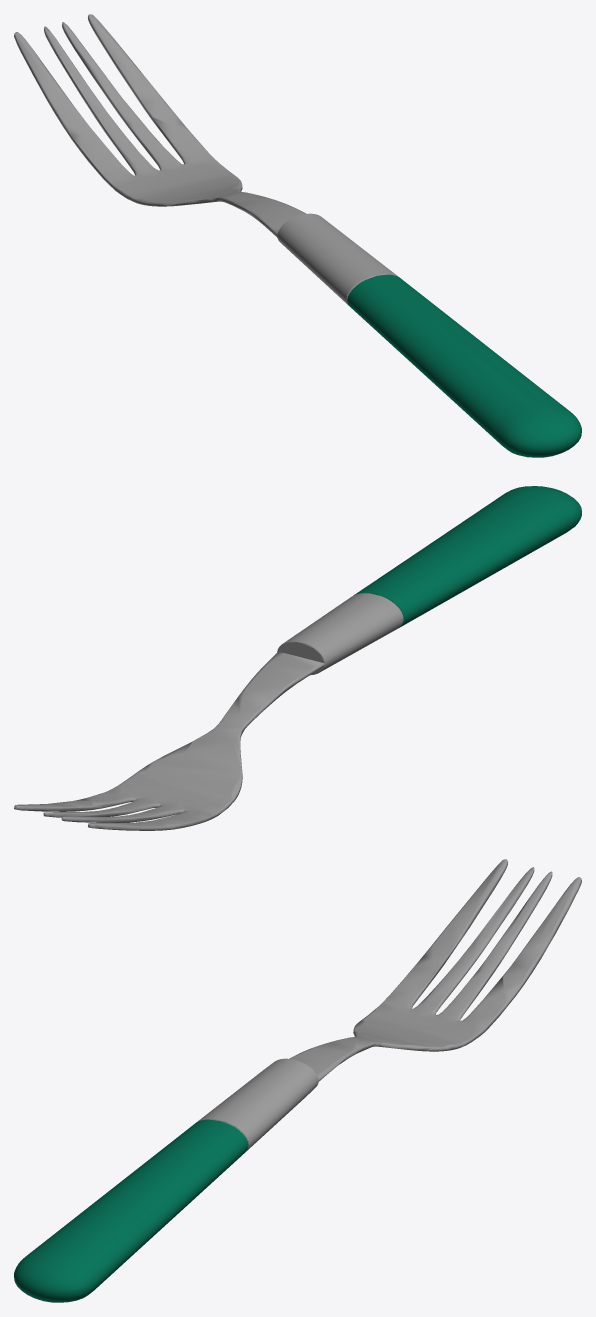
The model's file is Fork.FBX.
3 renders of one model, top to bottom at view 1: azimuth 30°, elevation 25°; view 2: azimuth 150°, elevation 25°; view 3: azimuth 330°, elevation 25°, orthographic.
Visible parts, largest first — view 1: fork; view 2: fork; view 3: fork.
Part boxes in pixels (x1,y1,x2,y2): fork: [14, 14, 581, 457]; fork: [14, 486, 581, 830]; fork: [14, 859, 581, 1302].
Size of the model in its own units: 2.55 by 1.71 by 21.6.
